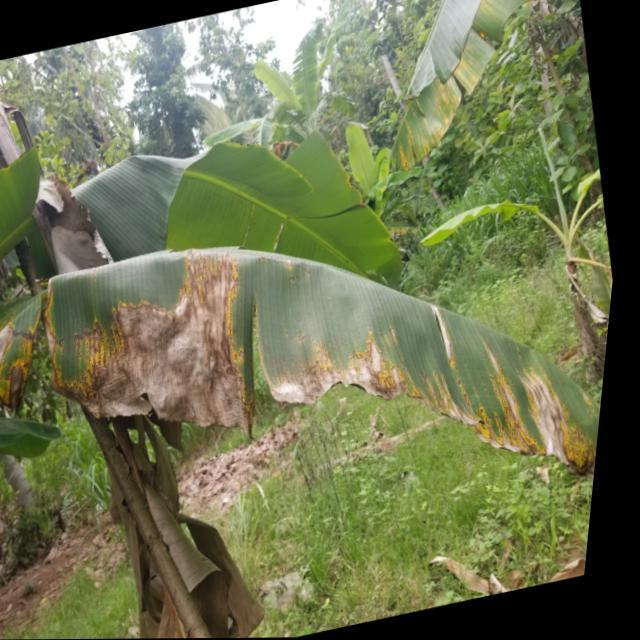Early_rust: (0, 255, 599, 524), (386, 1, 501, 178)
